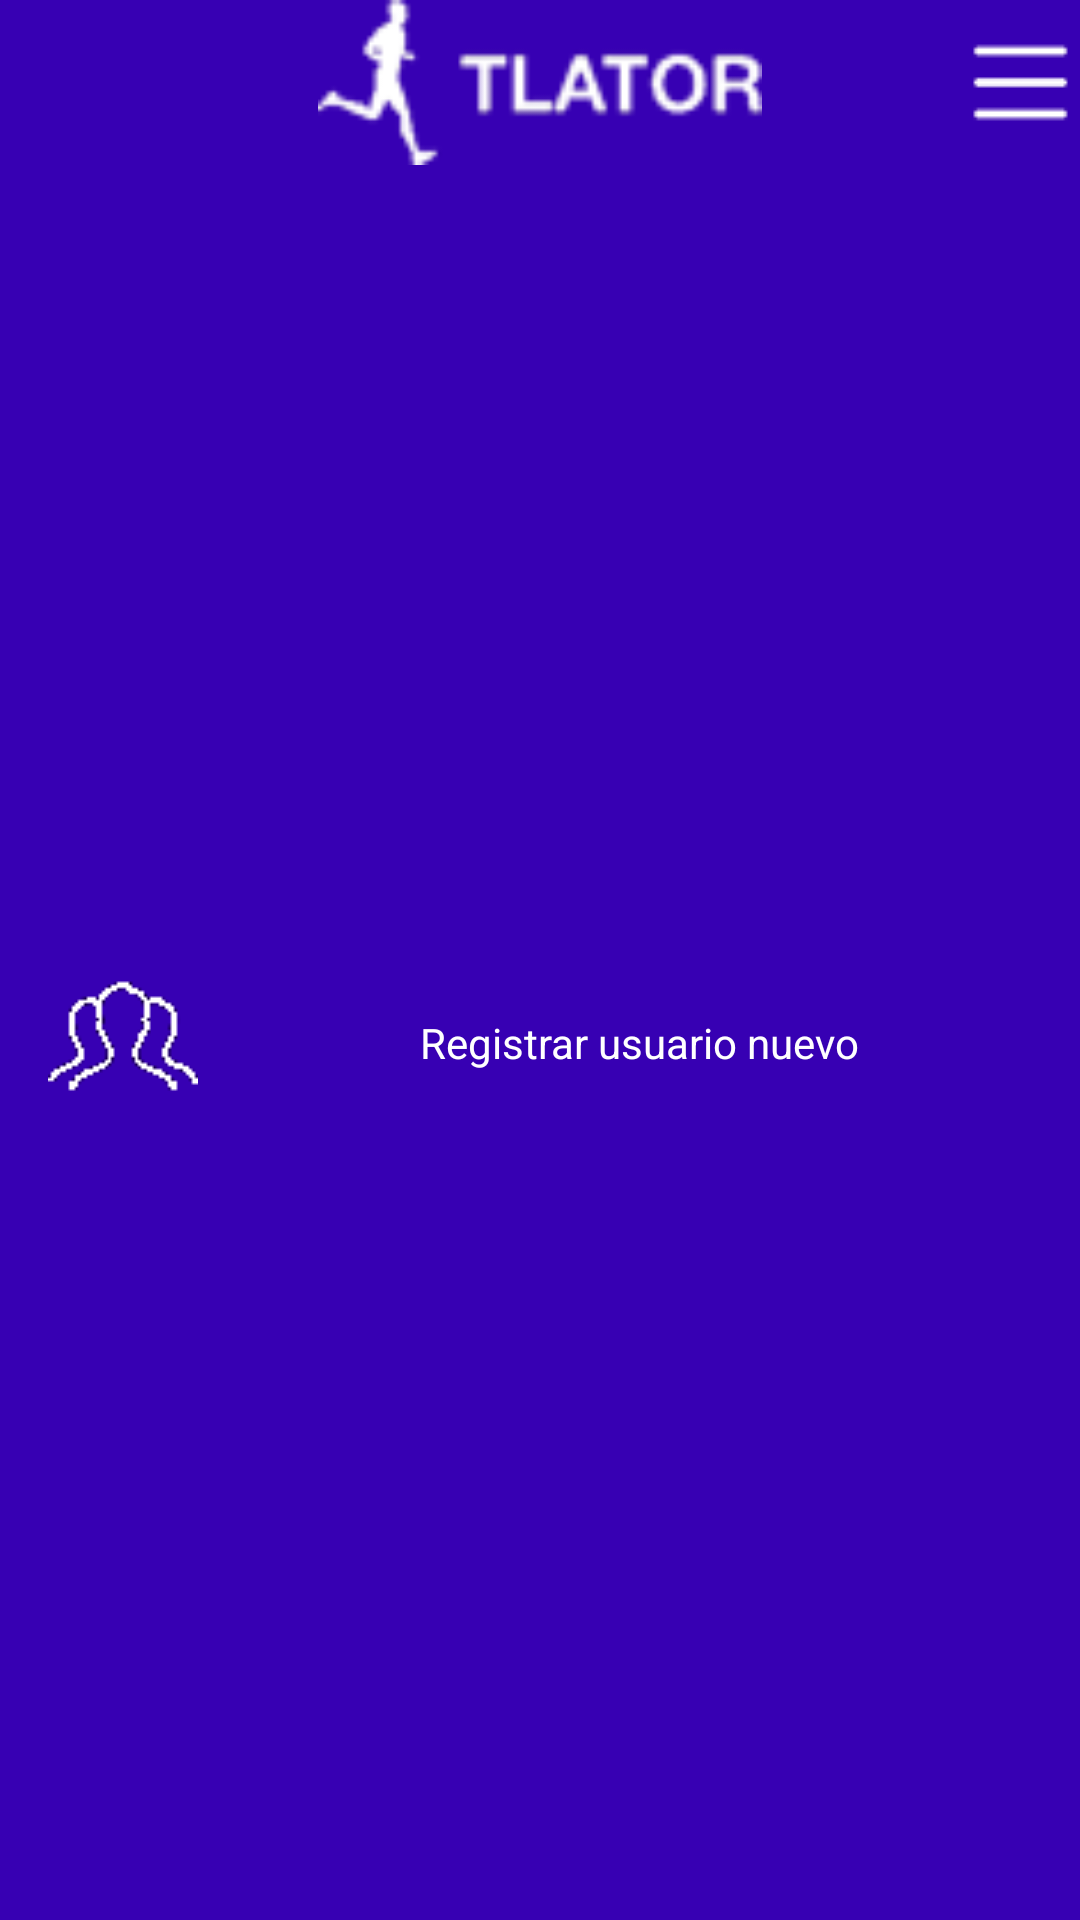

Locate icon controls on the screen. Image size 1080×1920, boxes as [x1,y1,x2,y2].
menu: [973,44,1068,121]
users: [48,981,198,1091]
